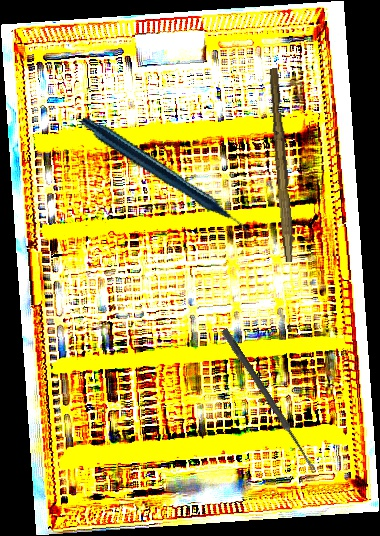Handpiece: (79, 78, 252, 281)
Scalpel Handle: (264, 67, 300, 263)
Surgical Spoon: (220, 327, 319, 475)
